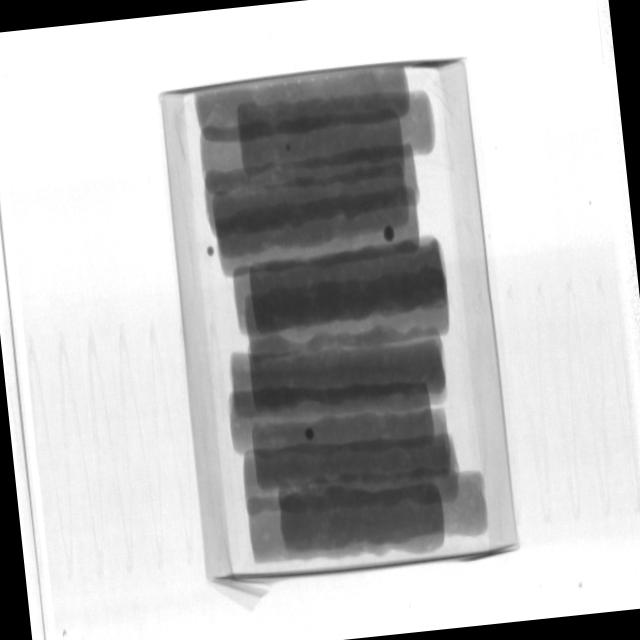ym: (383, 226, 397, 243), (306, 427, 317, 441), (207, 247, 217, 258), (285, 142, 292, 153)
